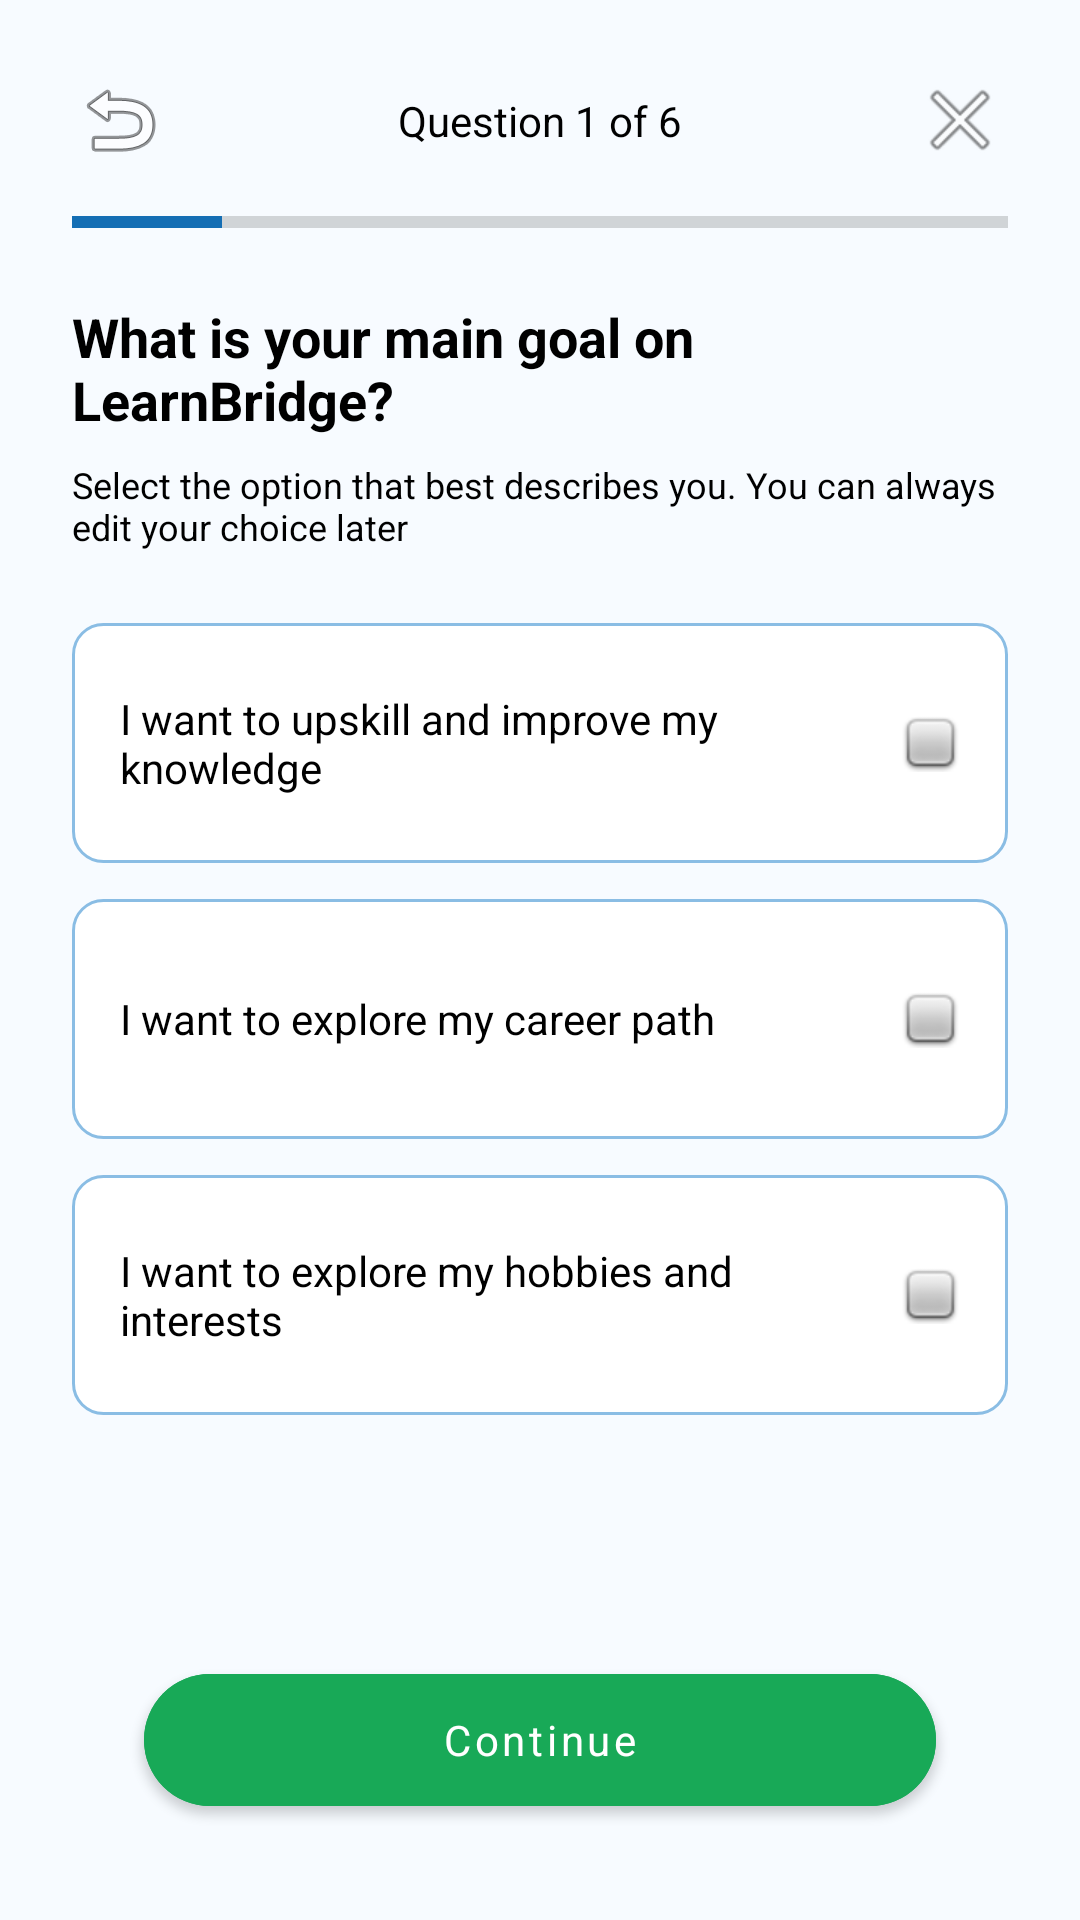

Named icons in this screenshot (1080px x 1920px) and their bounding boxes, (x1, y1, x2, y2):
close clear cancel: (930, 90, 990, 150)
revert: (87, 89, 156, 152)
